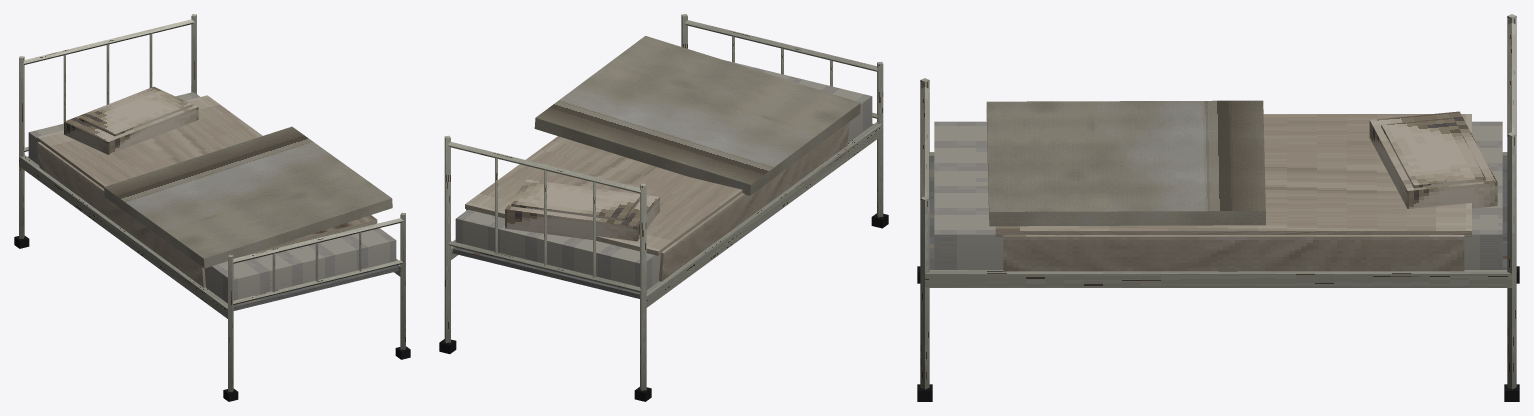
The model's file is prop_bed-1.glb.
3 views of the same model, side by side, from view 1: azimuth 30°, elevation 25°; view 2: azimuth 150°, elevation 25°; view 3: azimuth 270°, elevation 25° (orthographic). The views are drawn at different scales.
Visible parts, largest first — view 1: prop_bed-1; view 2: prop_bed-1; view 3: prop_bed-1.
Boxes of the visible parts, x1,y1,x2,y2 form: prop_bed-1: [14, 14, 410, 401]; prop_bed-1: [439, 14, 888, 401]; prop_bed-1: [917, 14, 1519, 401].
Size of the model in its own units: 1.01 by 0.95 by 1.96.
4 materials, 4 textured.
